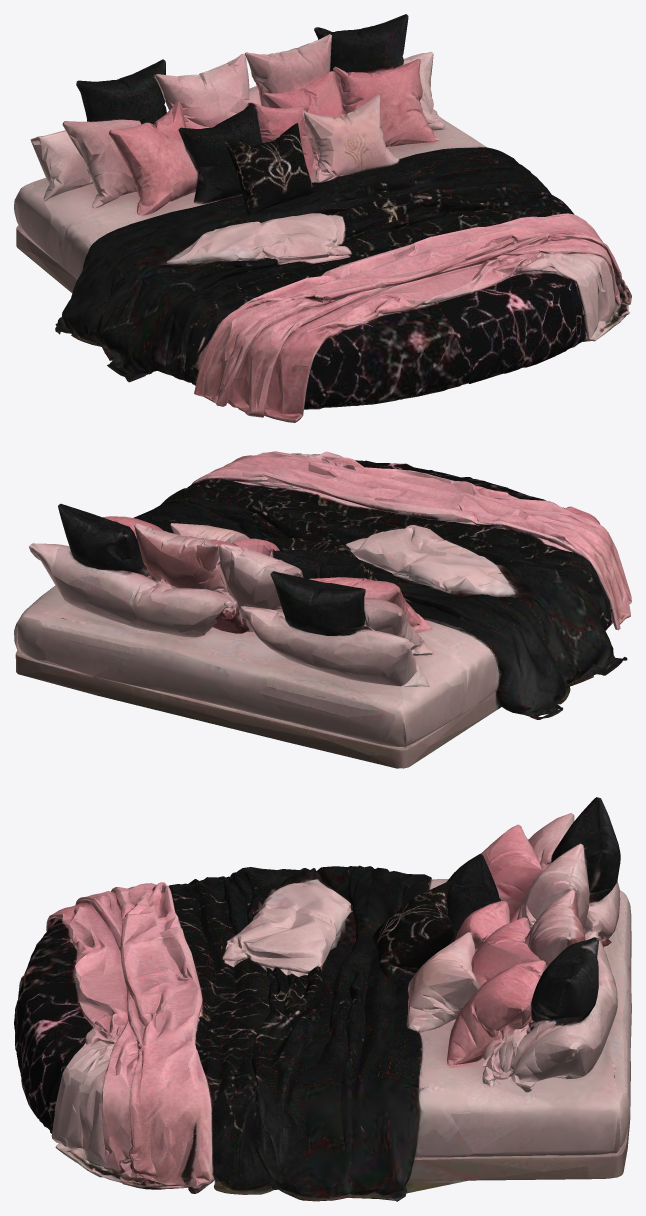
The model's file is bed.glb.
The picture shows the model from 3 angles, top to bottom: view 1: azimuth 30°, elevation 25°; view 2: azimuth 150°, elevation 25°; view 3: azimuth 270°, elevation 25°; orthographic projection. The views are drawn at different scales.
Visible parts, largest first — view 1: room_bed; view 2: room_bed; view 3: room_bed.
Boxes of the visible parts, x1,y1,x2,y2 form: room_bed: (14, 14, 631, 422); room_bed: (14, 451, 631, 768); room_bed: (14, 797, 631, 1201).
Bounding box in the file's own units: 2.4 × 0.7696 × 2.24.
Materials: 1 (1 with a texture image).
